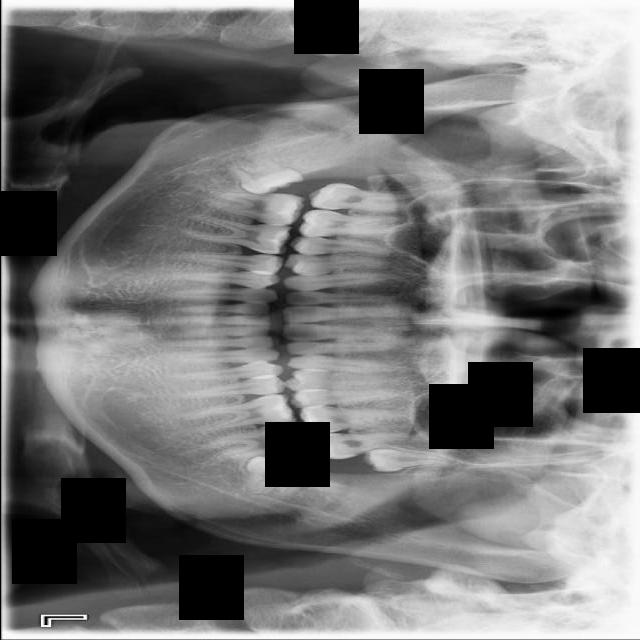BioHorizons Implant: (307, 430, 419, 460)
BioLife Implant: (362, 448, 456, 472)
Biomet 3i Implant: (241, 451, 313, 504)
Blue Sky Bio Implant: (196, 420, 309, 463)
Caries: (306, 180, 434, 218)
Implant: (204, 189, 305, 228)
Keystone Dental Implant: (220, 148, 307, 208)
